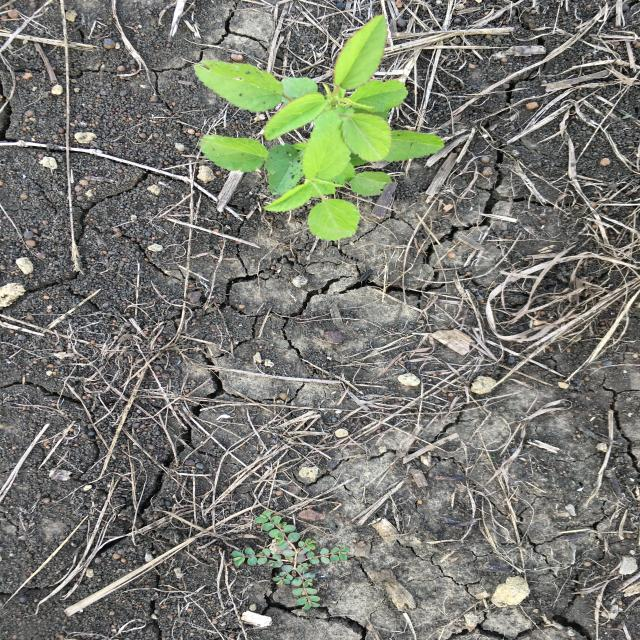PricklySida: (191, 11, 448, 244)
SpottedSpurge: (226, 508, 356, 614)
